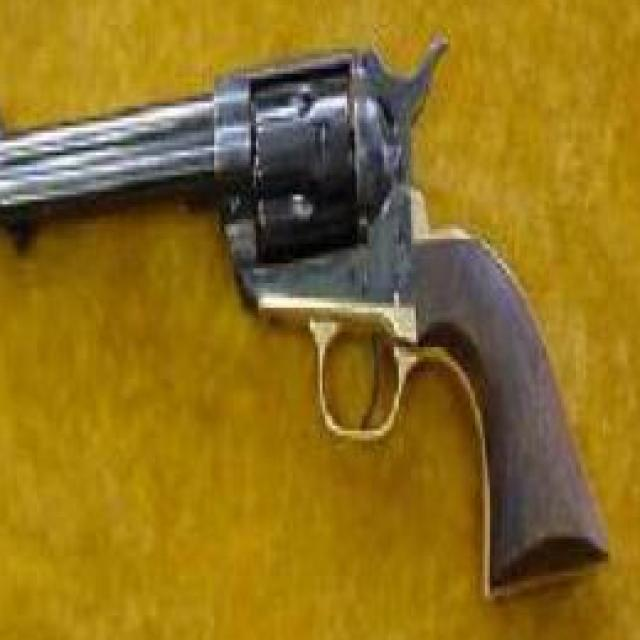pistol: (0, 24, 616, 593)
